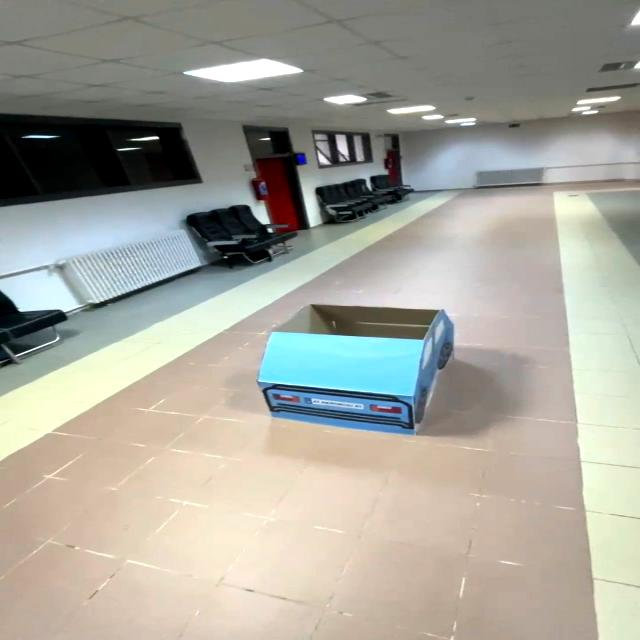blue_car: (224, 294, 488, 443)
